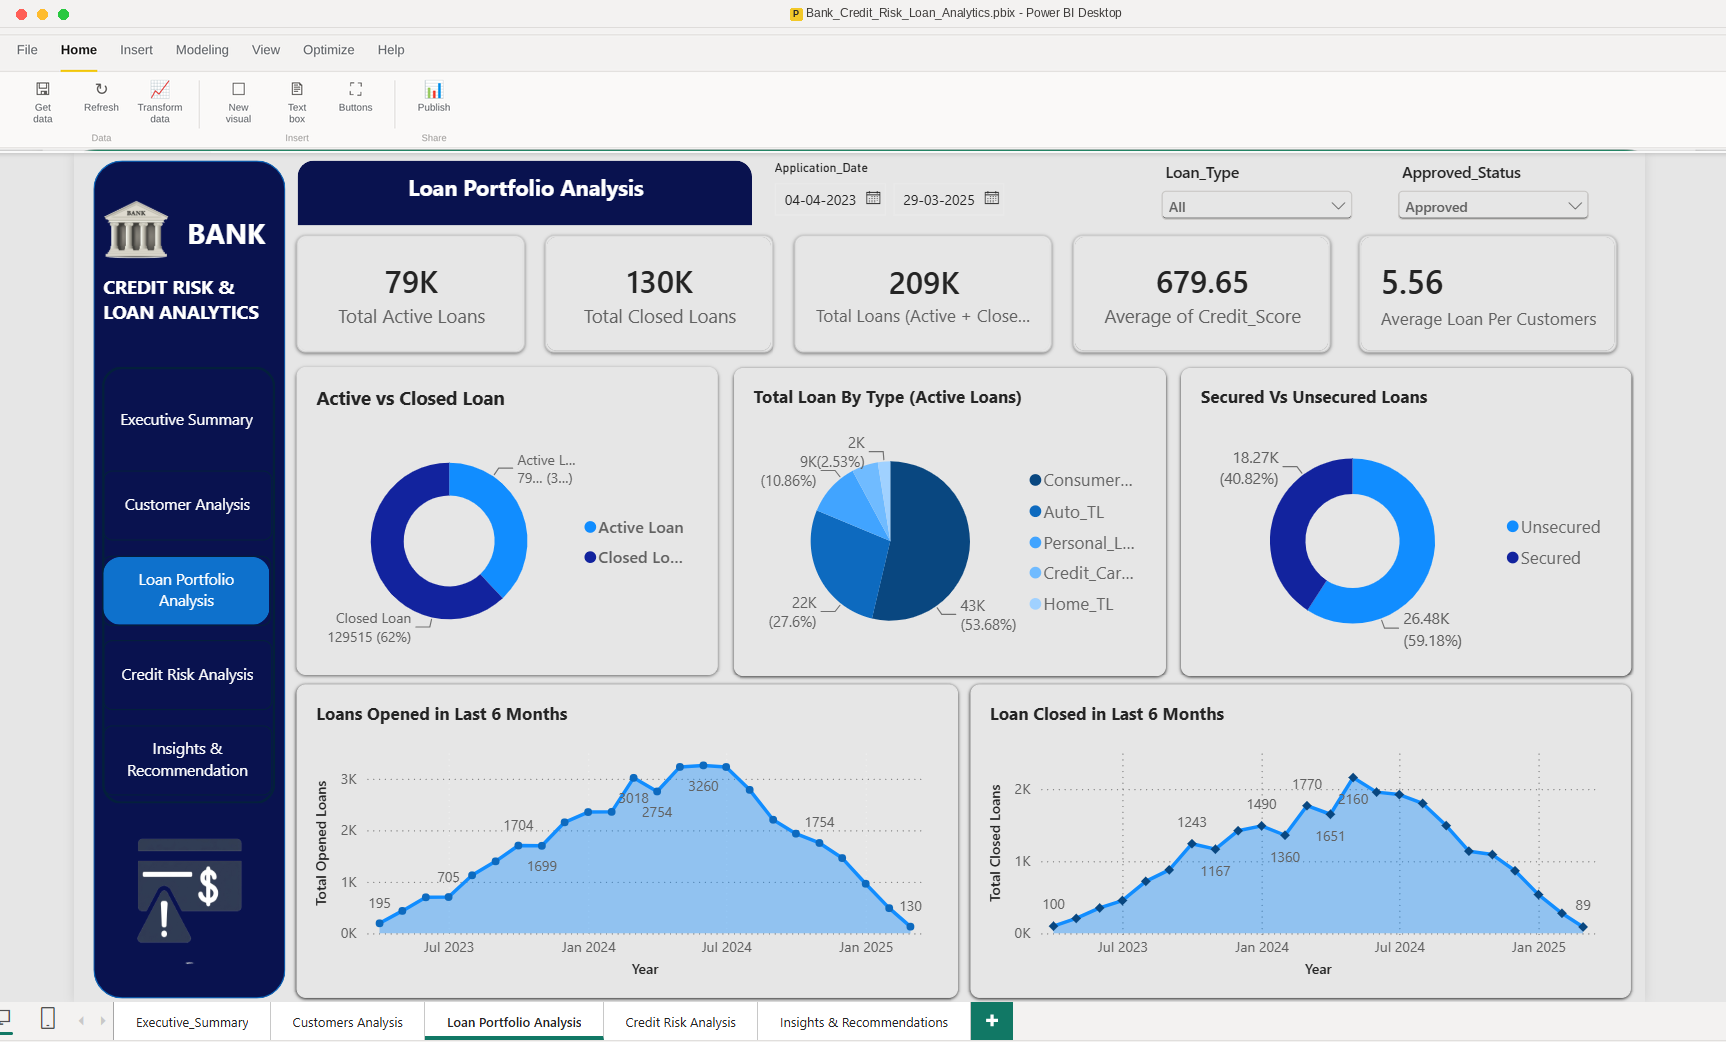

The page's visual inventory and layout, read from the dashboard file:
{"tool":"powerbi","page":{"name":"Loan Portfolio Analysis","canvas":[1350,730],"ordinal":2},"visuals":[{"type":"shape","box":[16.4,6.2,165,720],"z":0},{"type":"image","box":[16.4,27,71.8,77],"z":1000},{"type":"textbox","box":[88.1,51.9,85.3,36.4],"z":2000},{"type":"textbox","box":[24.7,103.9,174.3,55.7],"z":3000},{"type":"shape","box":[23.9,184.1,148.7,375.5],"z":4000},{"type":"actionButton","title":"Executive Summary","box":[23.9,199.7,145,60.3],"z":5000},{"type":"actionButton","title":"Executive Summary","box":[25,272.7,145,60.3],"z":6000},{"type":"actionButton","title":"Executive Summary","box":[23.9,345.8,145,60.3],"z":7000},{"type":"actionButton","title":"Executive Summary","box":[25,418.9,145,60.3],"z":8000},{"type":"actionButton","title":"Executive Summary","box":[25,491.9,145,60.3],"z":9000},{"type":"shape","box":[192.1,6.3,390.5,55.9],"z":10000},{"type":"textbox","box":[223.8,16.9,329.3,34.8],"z":11000},{"type":"slicer","fields":{"Values":["Dim_Customer.Application_Date"]},"box":[594.2,6.3,315.6,64.4],"z":12000},{"type":"slicer","fields":{"Values":["Fact_loan.Loan_Type"]},"box":[929.9,6.3,173.7,60.3],"z":13000},{"type":"slicer","fields":{"Values":["Dim_Customer.Approved_Status"]},"box":[1133.6,6.3,173.7,60.3],"z":14000},{"type":"cardVisual","fields":{"Data":["Sum(Fact_loan.Active Loan Count)"]},"box":[191,70.7,196.3,101.3],"z":15000},{"type":"donutChart","title":"Active vs Closed Loan","fields":{"Y":["Sum(Fact_loan.Active Loan Count)","Sum(Fact_loan.Tot_Closed_TL)"]},"box":[191,183.7,362,264.9],"z":16000},{"type":"cardVisual","fields":{"Data":["Sum(Fact_loan.Tot_Closed_TL)"]},"box":[405,70.7,196.3,101.3],"z":17000},{"type":"cardVisual","fields":{"Data":["Fact_loan.Total Loans"]},"box":[618.9,70.7,221.7,101.3],"z":18000},{"type":"cardVisual","fields":{"Data":["Avg(Dim_Customer.Credit_Score)"]},"box":[858.1,70.7,221.7,101.3],"z":19000},{"type":"cardVisual","fields":{"Data":["Avg(Fact_loan.Total_TL)"]},"box":[1104,70.7,221.7,101.3],"z":20000},{"type":"pieChart","title":"Total Loan By Type (Active Loans)","fields":{"Category":["Fact_loan.Loan_Type"],"Y":["Sum(Fact_loan.Active Loan Count)"]},"box":[566.8,184.7,371.5,264.9],"z":21000},{"type":"donutChart","title":"Secured Vs Unsecured Loans ","fields":{"Category":["Fact_loan.Loan_Security_Type"],"Y":["CountNonNull(Fact_loan.Loan_Security_Type)"]},"box":[951,184.7,387.4,264.9],"z":22000},{"type":"areaChart","title":"Loans Opened in Last 6 Months ","fields":{"Category":["Dim_Customer.Application_Date.Variation.Date Hierarchy.Year","Dim_Customer.Application_Date.Variation.Date Hierarchy.Month"],"Y":["Sum(Fact_loan.Total_TL_opened_L6M)"]},"box":[191,457,568.9,269.1],"z":23000},{"type":"areaChart","title":"Loan Closed in Last 6 Months","fields":{"Category":["Dim_Customer.Application_Date.Variation.Date Hierarchy.Year","Dim_Customer.Application_Date.Variation.Date Hierarchy.Month"],"Y":["Sum(Fact_loan.Tot_TL_closed_L6M)"]},"box":[770.5,457,567.9,269.1],"z":24000}]}

Visuals, with their boxes on the page's 1350x730 design canvas (x1, y1, x2, y2). These are canvas units, not pixel positions in the 1726x1042 screenshot, which may show the page scaled, cropped or inside an application window:
shape: detection(16, 6, 181, 726)
image: detection(16, 27, 88, 104)
textbox: detection(88, 52, 173, 88)
textbox: detection(25, 104, 199, 160)
shape: detection(24, 184, 173, 560)
"Executive Summary" actionButton: detection(24, 200, 169, 260)
"Executive Summary" actionButton: detection(25, 273, 170, 333)
"Executive Summary" actionButton: detection(24, 346, 169, 406)
"Executive Summary" actionButton: detection(25, 419, 170, 479)
"Executive Summary" actionButton: detection(25, 492, 170, 552)
shape: detection(192, 6, 583, 62)
textbox: detection(224, 17, 553, 52)
slicer - Dim_Customer.Application_Date: detection(594, 6, 910, 71)
slicer - Fact_loan.Loan_Type: detection(930, 6, 1104, 67)
slicer - Dim_Customer.Approved_Status: detection(1134, 6, 1307, 67)
cardVisual - Sum(Fact_loan.Active Loan Count): detection(191, 71, 387, 172)
"Active vs Closed Loan" donutChart: detection(191, 184, 553, 449)
cardVisual - Sum(Fact_loan.Tot_Closed_TL): detection(405, 71, 601, 172)
cardVisual - Fact_loan.Total Loans: detection(619, 71, 841, 172)
cardVisual - Avg(Dim_Customer.Credit_Score): detection(858, 71, 1080, 172)
cardVisual - Avg(Fact_loan.Total_TL): detection(1104, 71, 1326, 172)
"Total Loan By Type (Active Loans)" pieChart: detection(567, 185, 938, 450)
"Secured Vs Unsecured Loans " donutChart: detection(951, 185, 1338, 450)
"Loans Opened in Last 6 Months " areaChart: detection(191, 457, 760, 726)
"Loan Closed in Last 6 Months" areaChart: detection(770, 457, 1338, 726)
